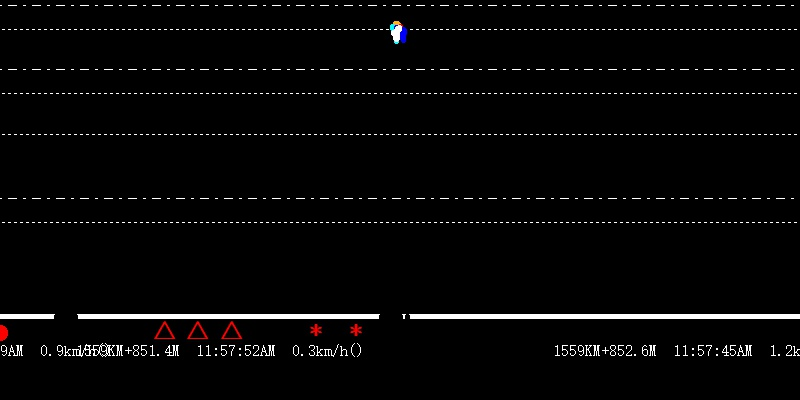face_2: (390, 19, 406, 45)
star: (348, 321, 365, 337), (307, 323, 324, 338)
